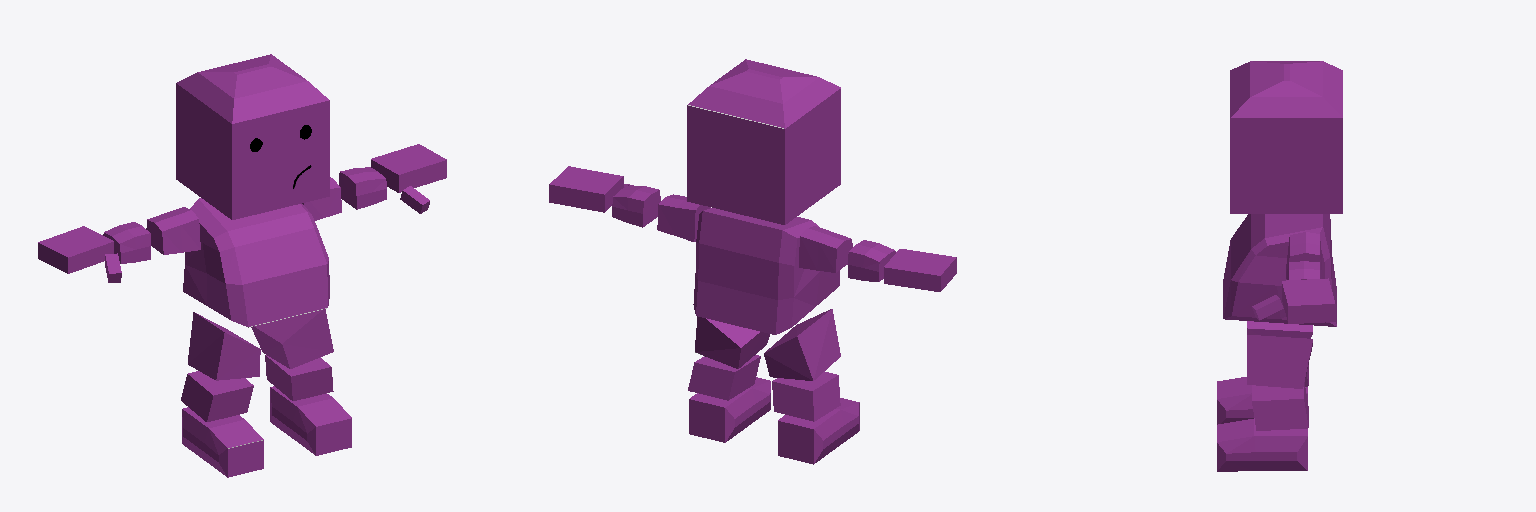
The picture shows the model from 3 angles: view 1: azimuth 30°, elevation 25°; view 2: azimuth 150°, elevation 25°; view 3: azimuth 270°, elevation 25°; orthographic projection.
Visible parts, largest first — view 1: Platformer.001; view 2: Platformer.001; view 3: Platformer.001.
Boxes of the visible parts, x1,y1,x2,y2 form: Platformer.001: [38, 54, 446, 477]; Platformer.001: [549, 59, 956, 464]; Platformer.001: [1217, 61, 1342, 471].
Size of the model in its own units: 2.61 by 2.35 by 0.7313.
Materials: 1 (1 with a texture image).